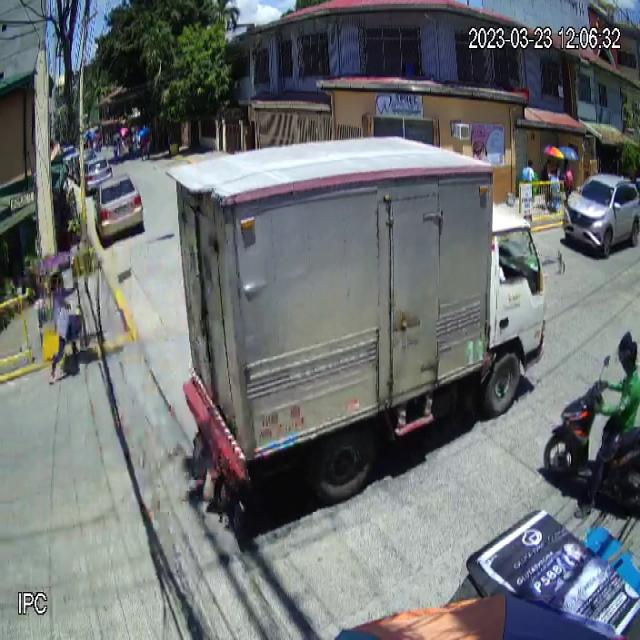Truck: (165, 133, 546, 505)
